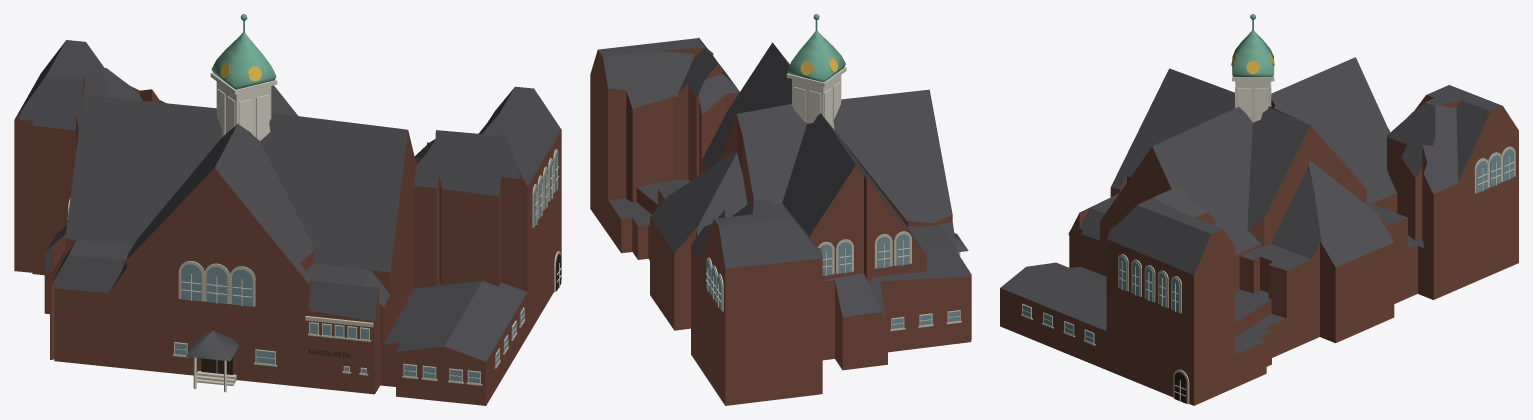
File: nassaukerk.glb
3 views of the same model, side by side, from view 1: azimuth 30°, elevation 25°; view 2: azimuth 150°, elevation 25°; view 3: azimuth 270°, elevation 25° (orthographic). The views are drawn at different scales.
Visible parts, largest first — view 1: nassaukerk; view 2: nassaukerk; view 3: nassaukerk.
Part boxes in pixels (left/top/right/bottom): nassaukerk: left=14, top=14, right=561, bottom=405; nassaukerk: left=590, top=14, right=971, bottom=405; nassaukerk: left=1000, top=14, right=1518, bottom=405.
Bounding box in the file's own units: 43.18 × 27.38 × 47.57.
